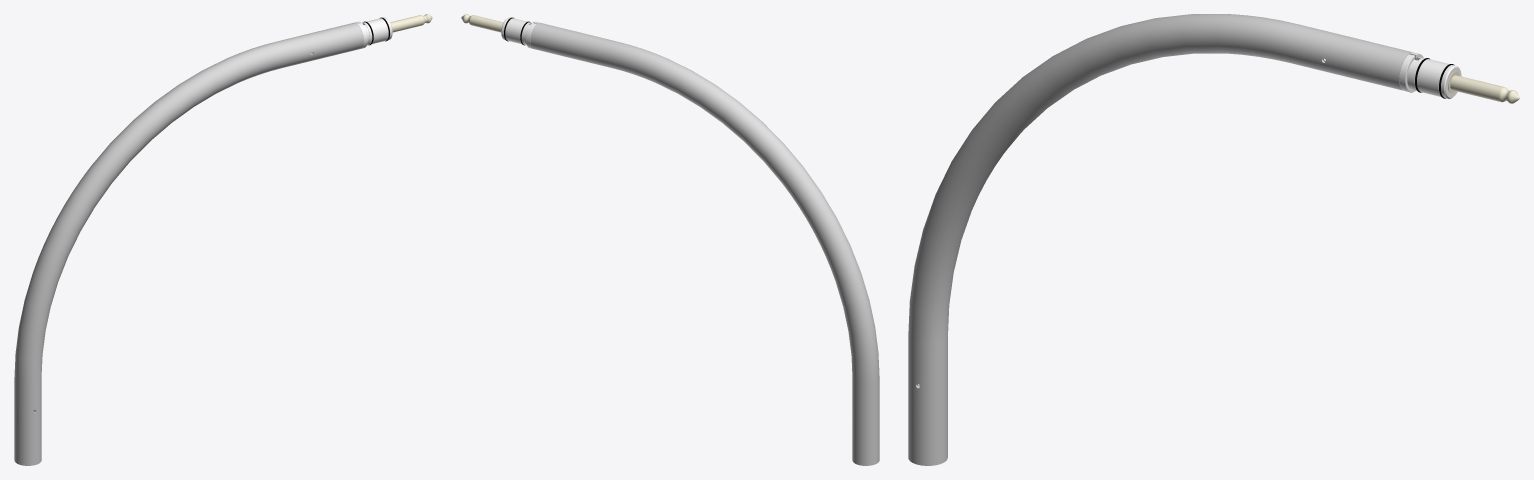
File: SpotCurve1.glb
The picture shows the model from 3 angles, left to right: view 1: azimuth 30°, elevation 25°; view 2: azimuth 150°, elevation 25°; view 3: azimuth 330°, elevation 25°; orthographic projection. The views are drawn at different scales.
Parts seen in each view (by area): view 1: Body1.177; view 2: Body1.177; view 3: Body1.177.
Part boxes in pixels (x1=…): Body1.177: x1=14, y1=14, x2=432, y2=465; Body1.177: x1=461, y1=14, x2=879, y2=465; Body1.177: x1=908, y1=14, x2=1519, y2=465.
Size of the model in its own units: 2.83 by 2.31 by 0.1604.
